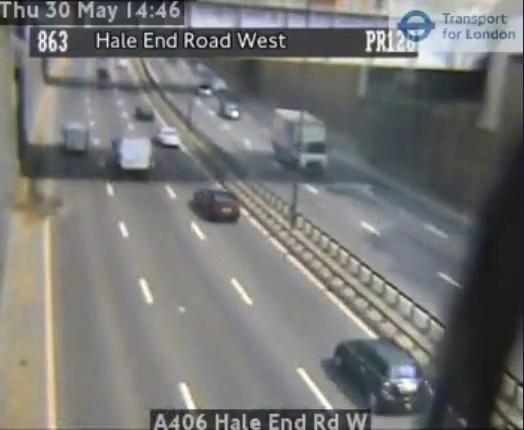car: (335, 340, 428, 410), (193, 189, 238, 219)
van: (115, 137, 152, 168)
